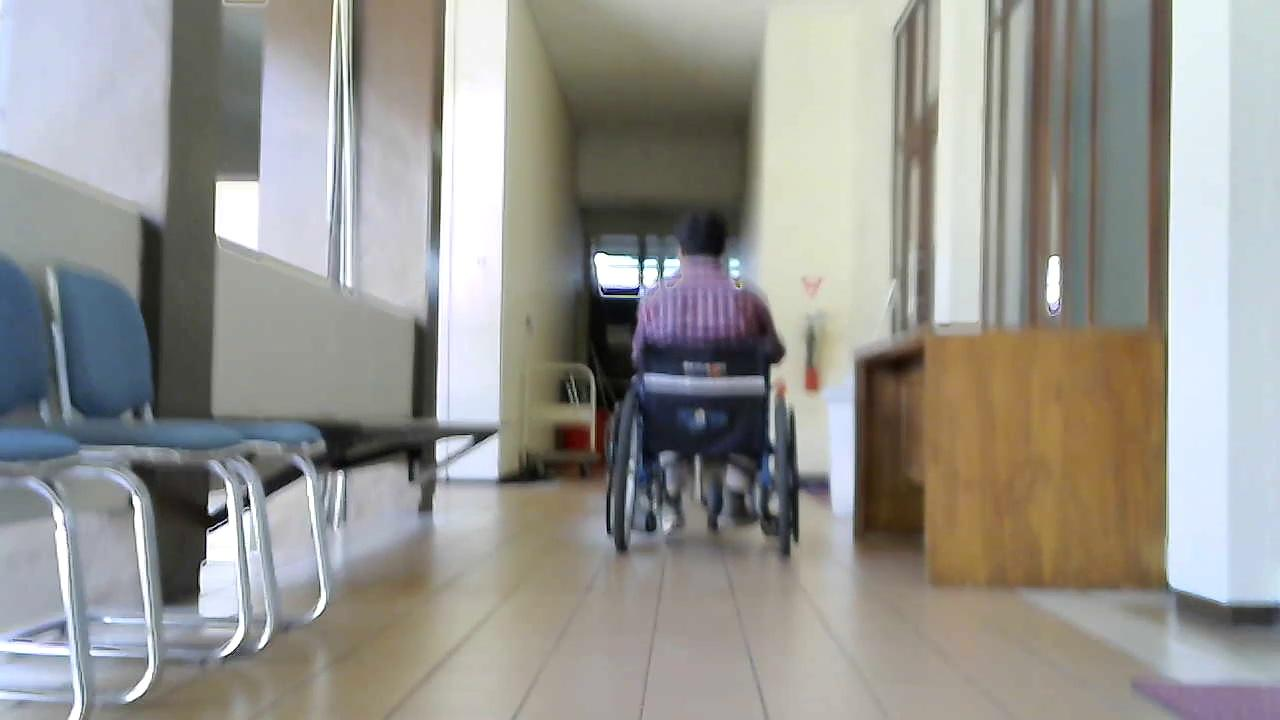person: (626, 210, 789, 536)
wheelchair: (594, 323, 812, 568)
